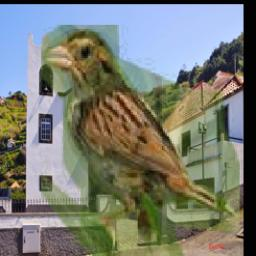Sparrow: (42, 26, 241, 256)
